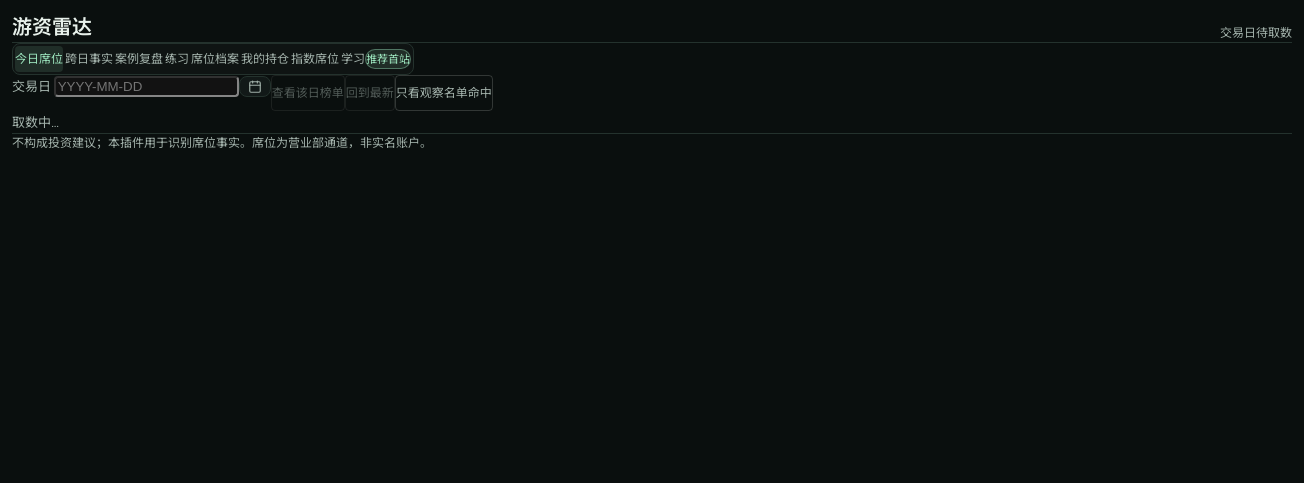
YouziPage · 练习（Y4-03/Y4-04） › ★ Y4-03 识别练习给出证据回链三标识，且用真实披露字段
Click the button titled "用真实披露事实做识别与复盘练习" at x=177, y=59, box [165, 46, 189, 72]
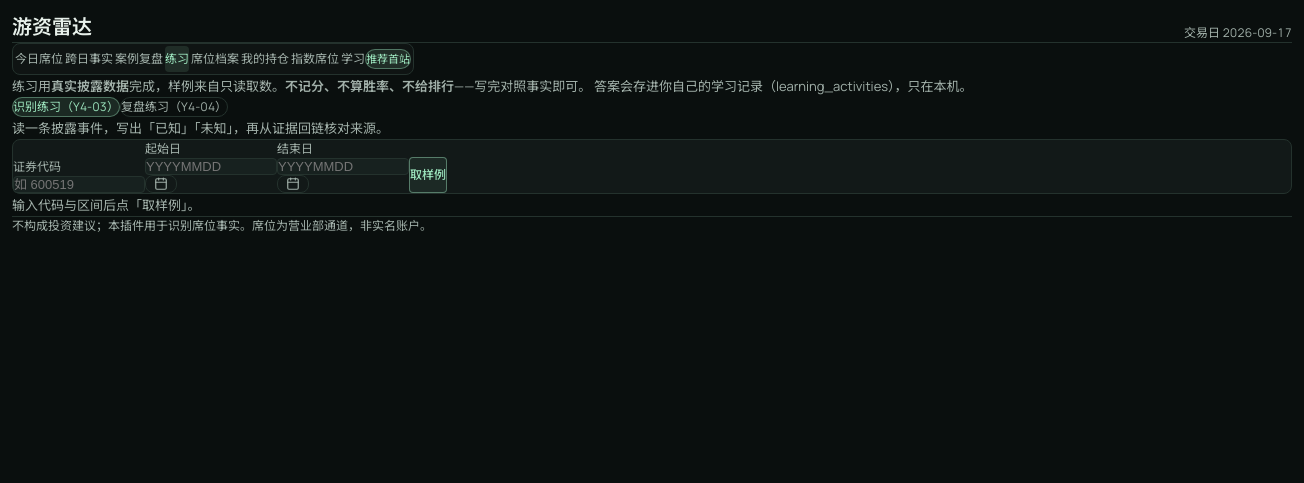
Check: the button "取样例" is shown, box [409, 157, 447, 193]
Type "600519" into the field with placeholder "如 600519" at x=79, y=185, box [13, 176, 145, 193]
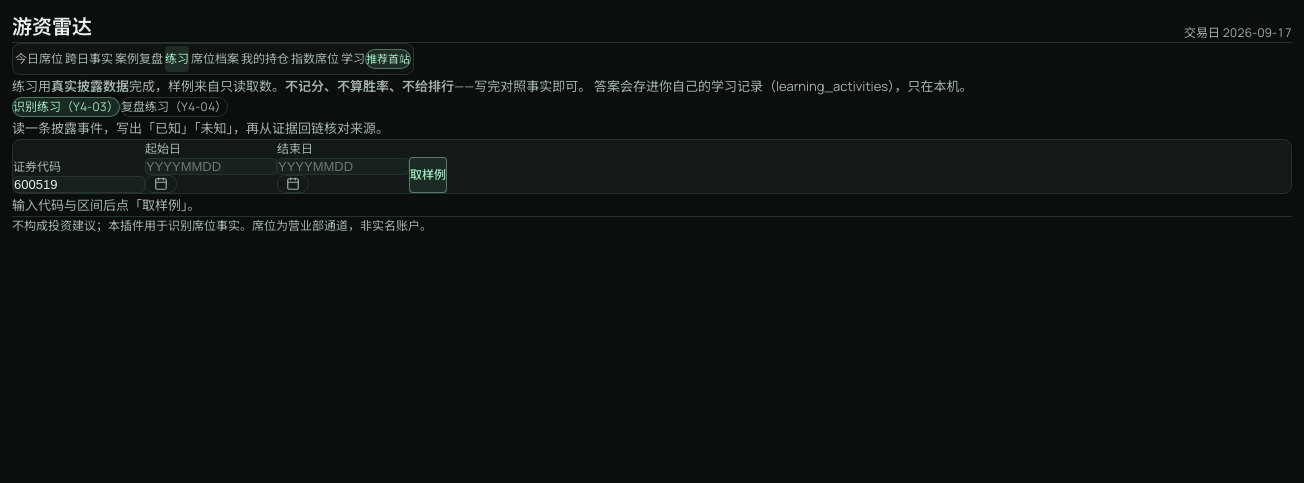
Type "20260907" into the field with placeholder "YYYYMMDD" at x=211, y=167, box [145, 158, 277, 175]
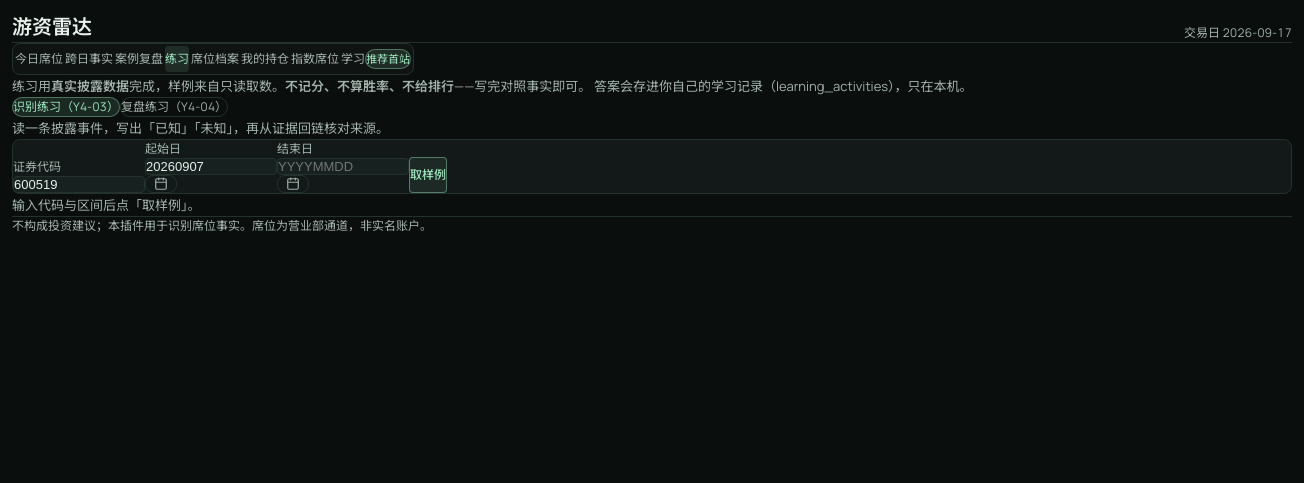
Type "20260917" into the field with placeholder "YYYYMMDD" at x=343, y=167, box [277, 158, 409, 175]
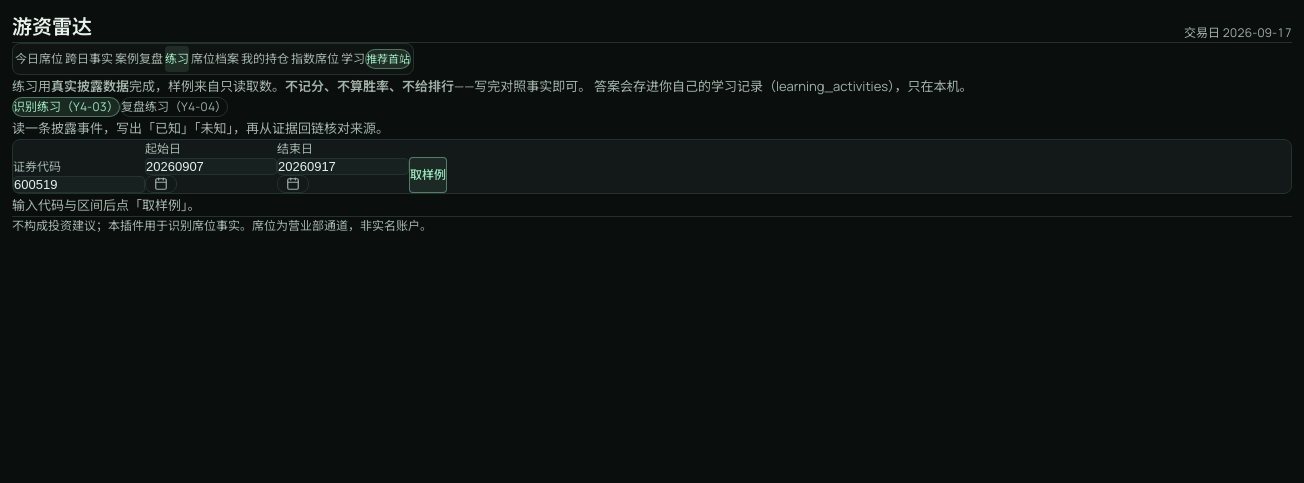
Click the button "取样例" at x=428, y=175, box [409, 157, 447, 193]
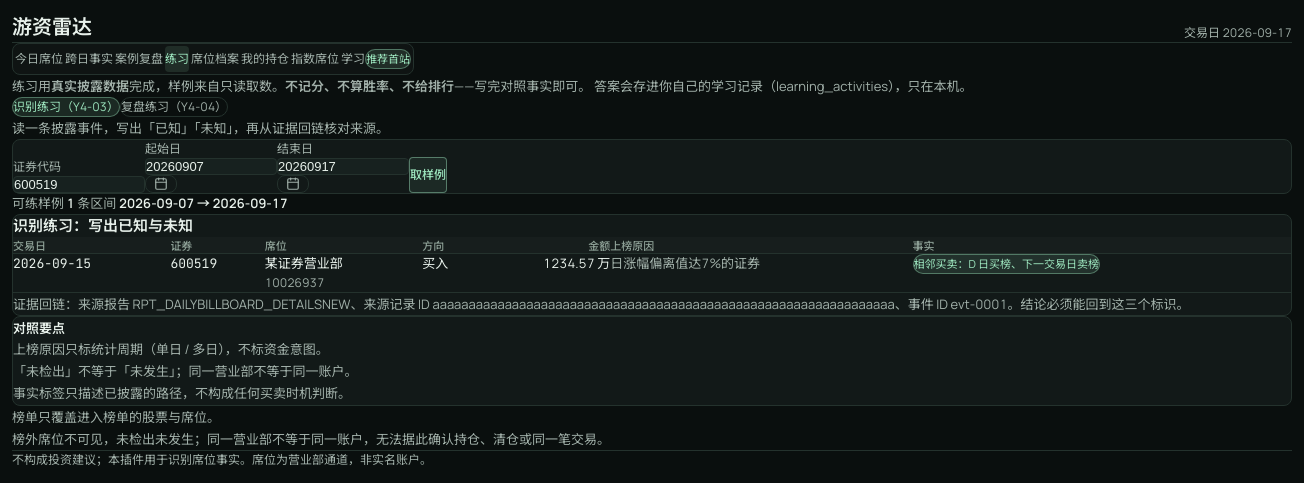
Check: the text "RPT_DAILYBILLBOARD_DETAILSNEW" is shown, box [133, 295, 350, 313]
Check: the text "evt-0001" is shown, box [951, 295, 1008, 313]
Check: the text "600519" is shown, box [170, 254, 265, 292]
